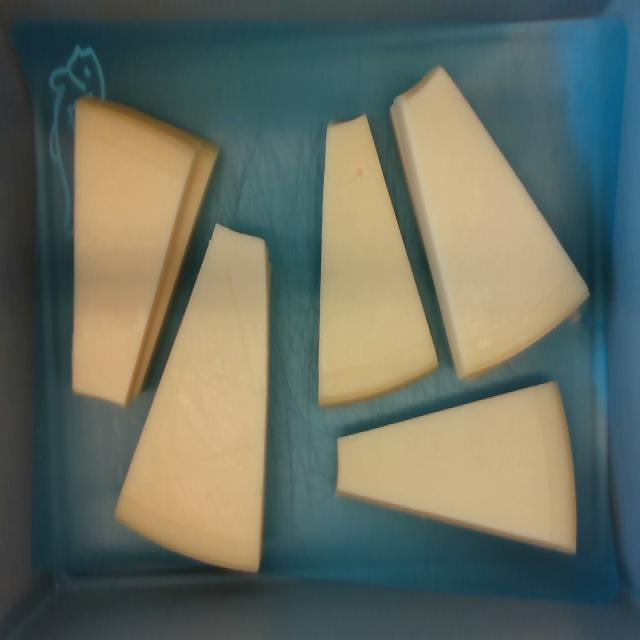Cheese: (398, 66, 590, 374), (117, 227, 269, 569), (337, 383, 574, 551), (73, 99, 197, 405), (319, 116, 436, 404)
